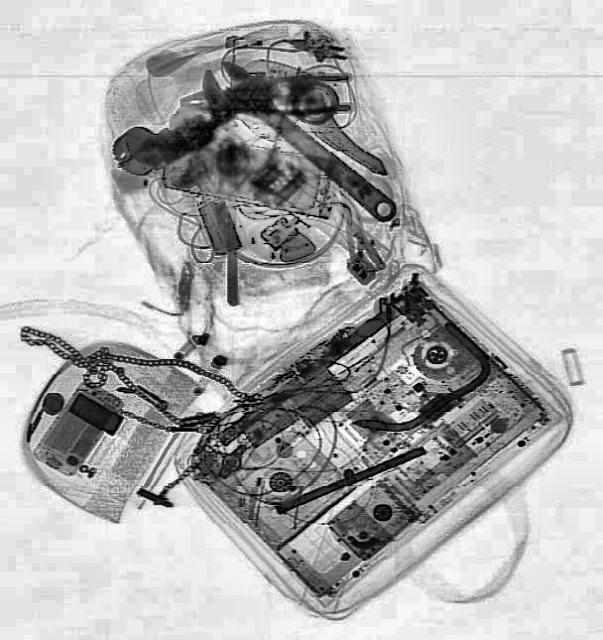Pliers: (178, 74, 352, 120)
Wrench: (189, 50, 404, 238)
